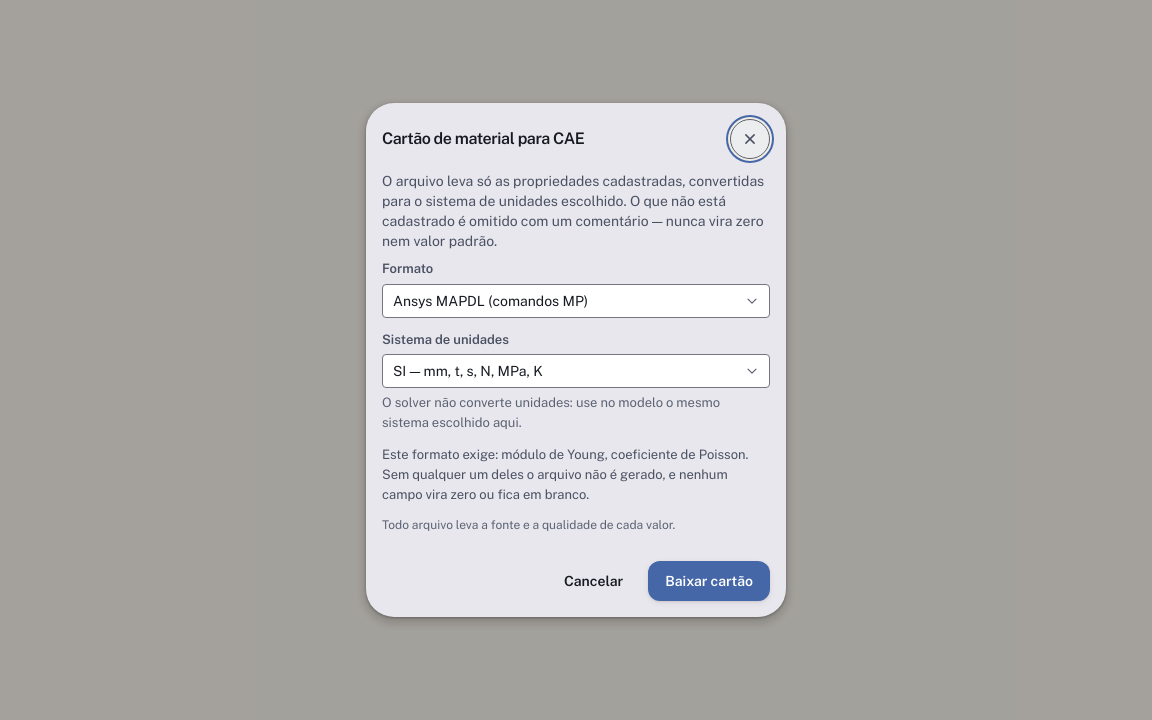
it: CaeExportDialog (D-104) › shows the server's refusal and stays open so another format can be tried
Step 1. Click the button "Baixar cartão" → (709, 581), box [648, 561, 770, 601]
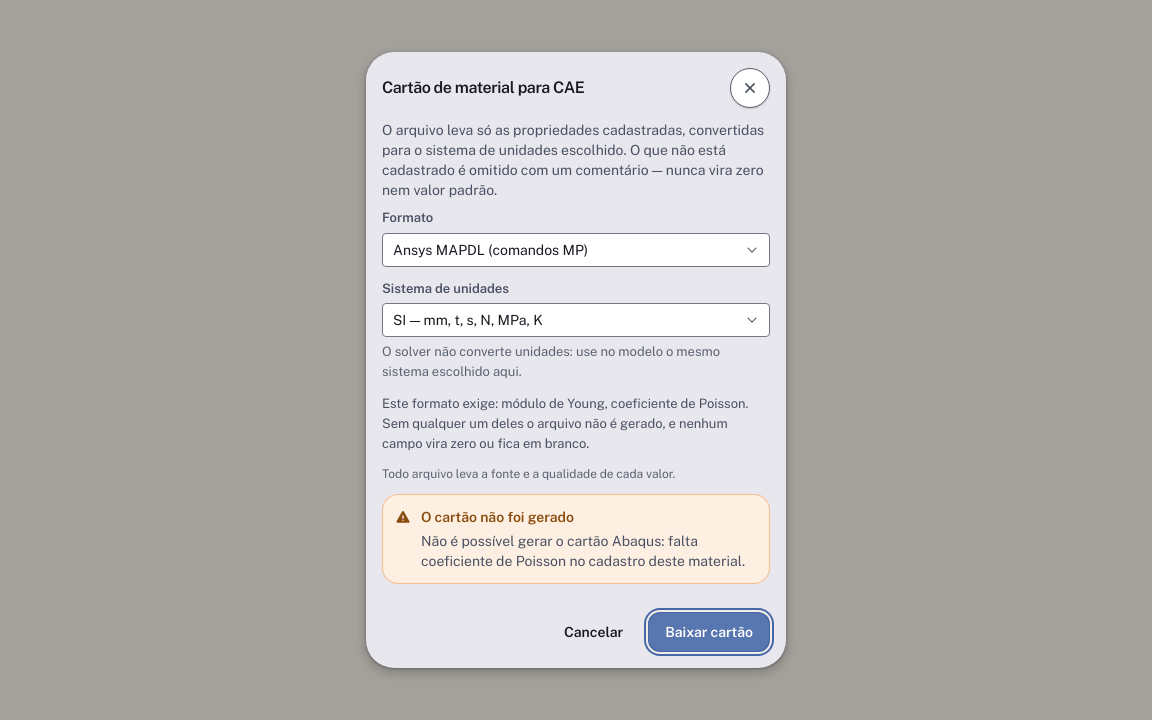
Expected: the message shows "O cartão não foi gerado", [421, 509, 574, 525]
Expected: the message shows "coeficiente de Poisson", [421, 533, 745, 569]
Changing the format clears the stale refusal.
Step 2. Select "MatML 3.1 (XML aberto)" in the dropdown labelled "Formato" → (576, 250), box [382, 232, 770, 266]
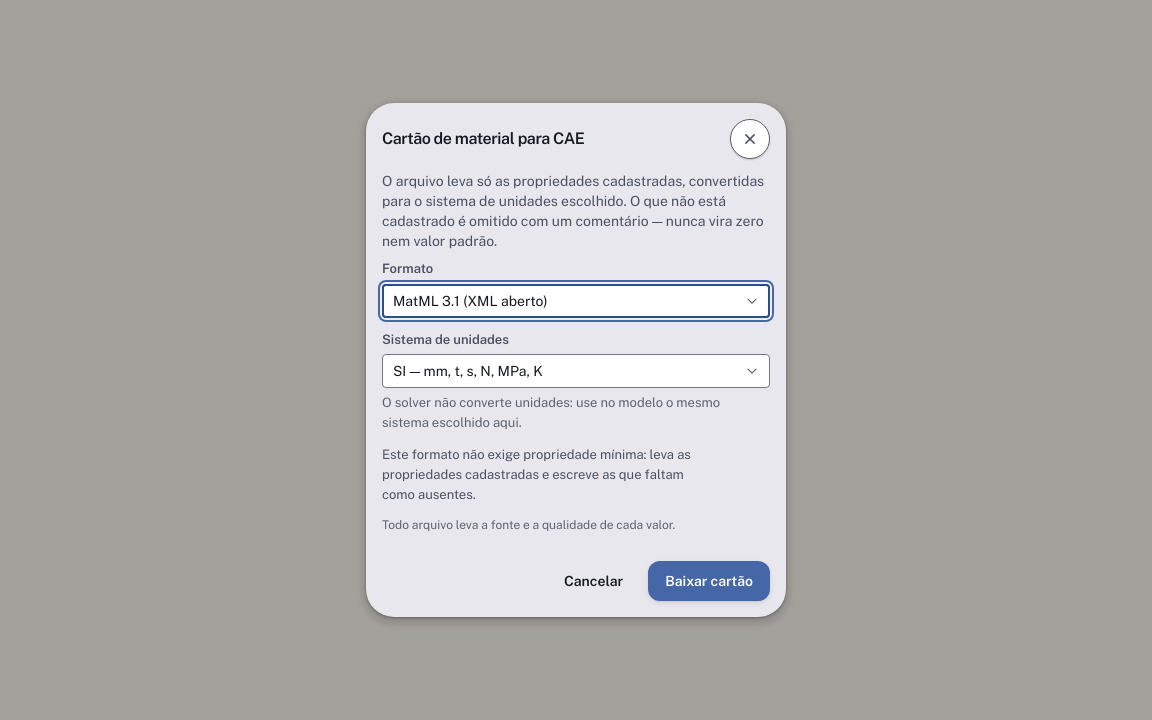
Expected: the message "O cartão não foi gerado Não é possível gerar o cartão Abaqus: falta coeficiente" is gone
